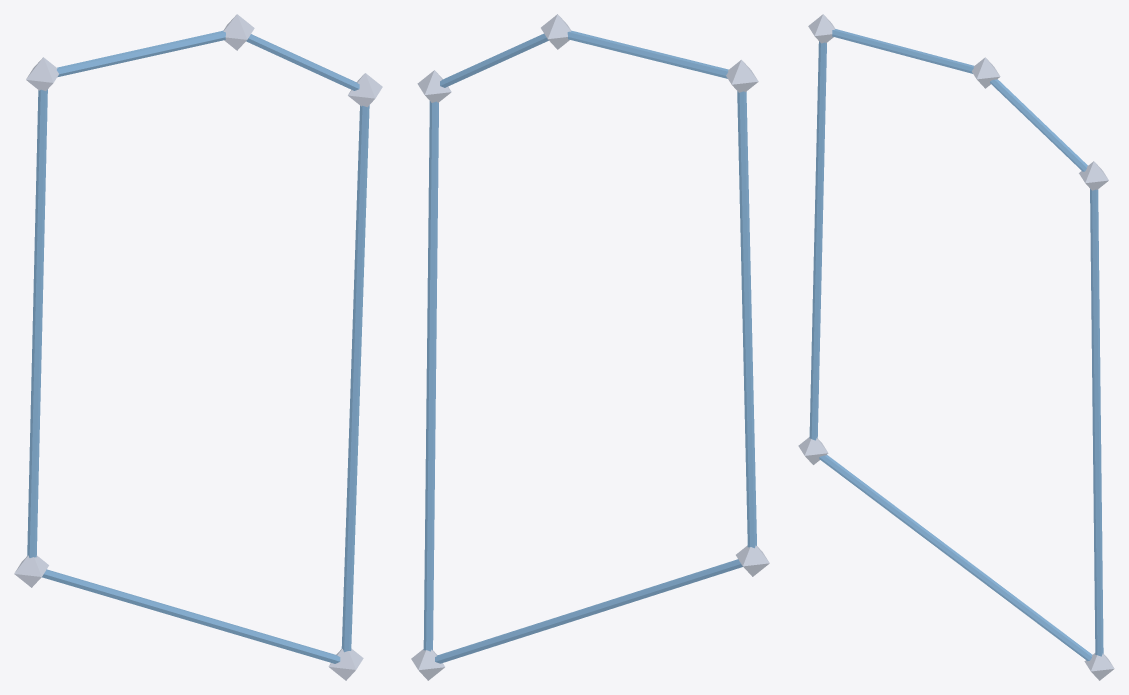
File: constellation-mic.glb
The picture shows the model from 3 angles, left to right: view 1: azimuth 30°, elevation 25°; view 2: azimuth 150°, elevation 25°; view 3: azimuth 330°, elevation 25°; orthographic projection. The views are drawn at different scales.
Size of the model in its own units: 0.7044 by 1.3 by 0.111.
